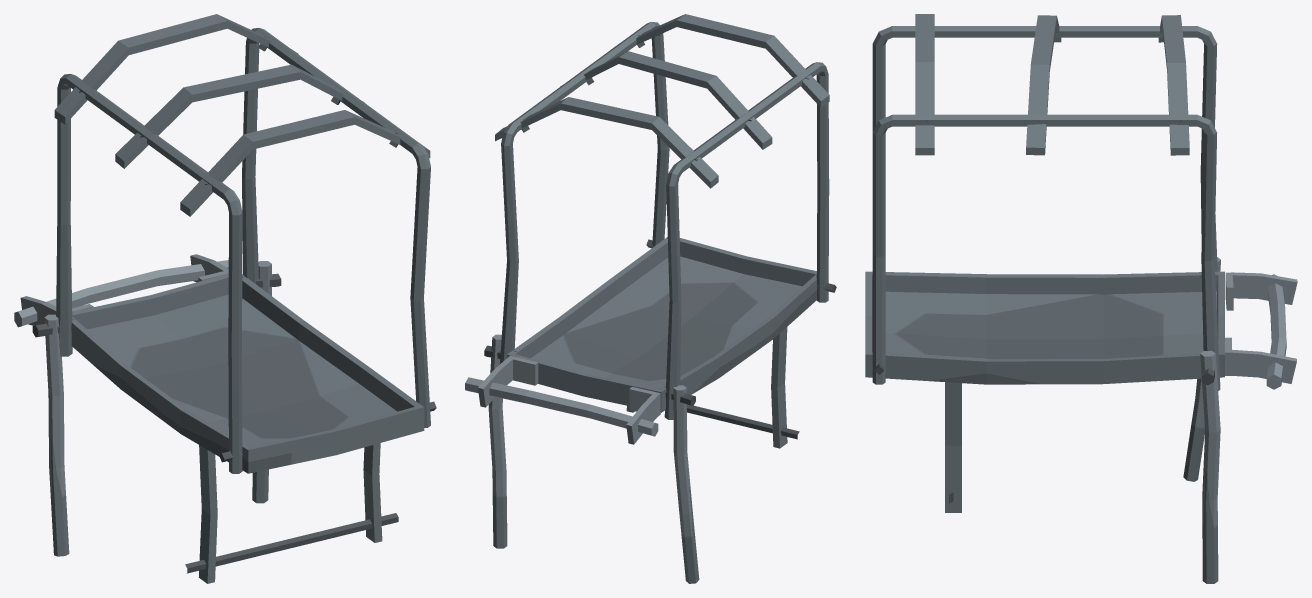
File: SM_Prop_Cart_Metal_01.glb
The picture shows the model from 3 angles, left to right: view 1: azimuth 30°, elevation 25°; view 2: azimuth 150°, elevation 25°; view 3: azimuth 270°, elevation 25°; orthographic projection. The views are drawn at different scales.
Parts seen in each view (by area): view 1: SM_Prop_Cart_Metal_01; view 2: SM_Prop_Cart_Metal_01; view 3: SM_Prop_Cart_Metal_01.
Boxes of the visible parts, box(x1,y1,x2,y2) form: SM_Prop_Cart_Metal_01: box(14, 14, 436, 583); SM_Prop_Cart_Metal_01: box(465, 14, 836, 583); SM_Prop_Cart_Metal_01: box(865, 14, 1297, 583).
Size of the model in its own units: 1.19 by 2.41 by 1.92.
1 material, 1 textured.
